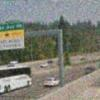buses: (0, 64, 33, 96)
